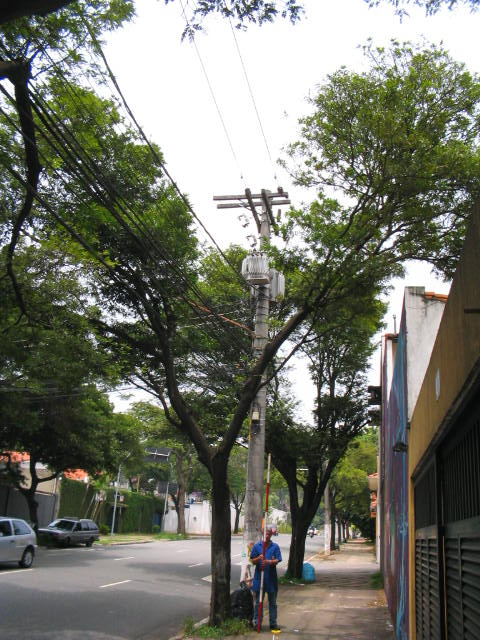crown: (4, 39, 475, 324)
stem: (199, 475, 238, 626)
stick: (249, 454, 275, 633)
tree: (3, 38, 477, 627)
